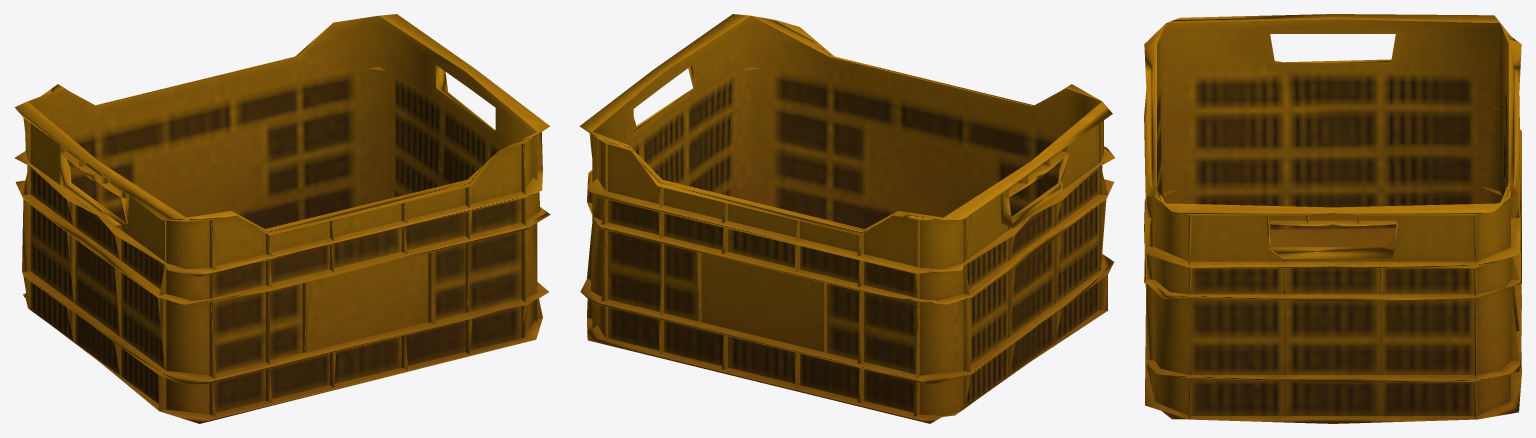
Rendered from plastic_crate_02.glb.
The picture shows the model from 3 angles, left to right: view 1: azimuth 30°, elevation 25°; view 2: azimuth 150°, elevation 25°; view 3: azimuth 270°, elevation 25°; orthographic projection. The views are drawn at different scales.
Parts seen in each view (by area): view 1: plastic_crate_02; view 2: plastic_crate_02; view 3: plastic_crate_02.
Part boxes in pixels (left/top/right/bottom): plastic_crate_02: left=14, top=14, right=550, bottom=423; plastic_crate_02: left=579, top=14, right=1114, bottom=423; plastic_crate_02: left=1144, top=14, right=1521, bottom=423.
Bounding box in the file's own units: 0.5055 × 0.2541 × 0.4055.
1 material, 1 textured.
